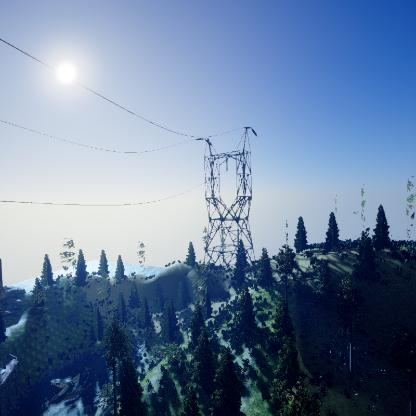tower: (192, 124, 259, 285)
